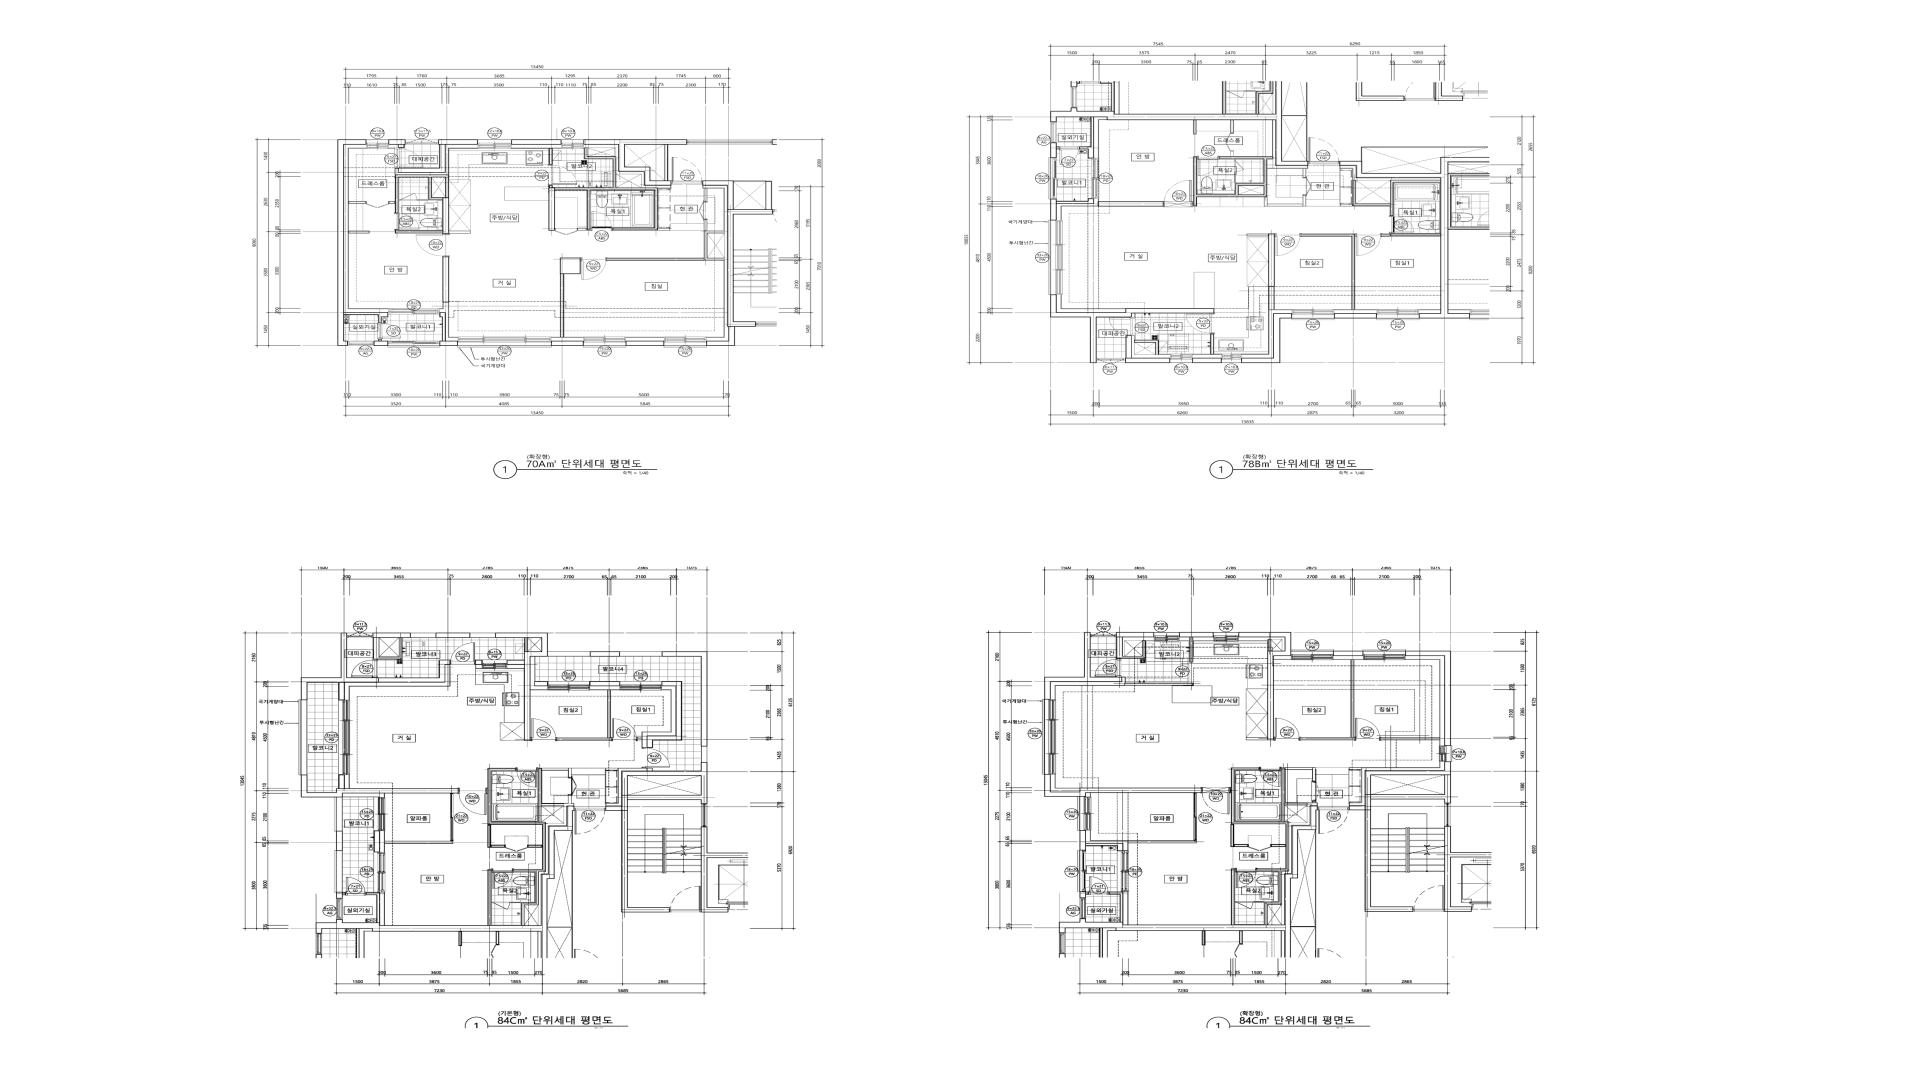door: (1317, 806, 1349, 834), (1308, 137, 1340, 164), (574, 807, 605, 834), (671, 157, 702, 183), (1413, 886, 1444, 912), (458, 788, 487, 815), (1164, 180, 1194, 206), (1201, 788, 1231, 814), (416, 234, 449, 257), (580, 258, 607, 280), (530, 719, 557, 741), (611, 719, 638, 741), (1186, 313, 1214, 334), (549, 165, 577, 186), (1275, 234, 1301, 256), (1355, 234, 1381, 256), (1274, 718, 1300, 740), (1355, 718, 1381, 740), (395, 148, 423, 168), (642, 748, 670, 768), (450, 643, 475, 664), (351, 659, 378, 678), (1109, 317, 1135, 336), (1095, 659, 1121, 677), (590, 211, 613, 231), (1390, 216, 1414, 234), (1197, 157, 1219, 176), (1260, 768, 1282, 787), (1235, 869, 1257, 888), (516, 768, 538, 787), (345, 877, 366, 896), (491, 870, 513, 888), (1088, 877, 1109, 895), (1059, 147, 1079, 165), (378, 323, 400, 339), (491, 902, 521, 910), (1193, 793, 1197, 841), (568, 776, 577, 796), (1312, 781, 1320, 803), (366, 201, 389, 208), (555, 228, 578, 235), (1248, 844, 1271, 851), (505, 845, 528, 852), (1090, 631, 1116, 637), (399, 193, 417, 201), (1303, 177, 1311, 195), (1226, 133, 1234, 151), (699, 202, 707, 220), (450, 793, 453, 841), (1235, 902, 1253, 909), (1235, 160, 1244, 172)
wall: (1059, 805, 1317, 958), (316, 806, 574, 958), (1050, 81, 1308, 166), (606, 186, 728, 341), (1340, 157, 1449, 318), (605, 762, 707, 913), (1349, 762, 1451, 912), (487, 768, 574, 926), (1231, 767, 1317, 925), (703, 181, 773, 346), (1050, 295, 1214, 363), (337, 140, 388, 346), (301, 633, 450, 700), (555, 145, 671, 231), (495, 633, 548, 741), (1239, 632, 1291, 740), (1044, 632, 1125, 699), (584, 140, 687, 186), (1300, 660, 1355, 740), (662, 651, 707, 747), (1406, 651, 1451, 746), (1444, 826, 1492, 912), (1301, 234, 1355, 310), (701, 827, 748, 913), (1194, 157, 1273, 206), (301, 775, 458, 797), (1044, 775, 1201, 797), (395, 139, 478, 175), (557, 690, 611, 741), (642, 681, 682, 748), (1241, 313, 1292, 363), (547, 831, 573, 928), (1241, 310, 1292, 358), (1291, 830, 1316, 927), (1267, 120, 1308, 177), (389, 175, 449, 213), (551, 274, 583, 341), (606, 768, 647, 806), (1371, 775, 1444, 795), (1340, 166, 1441, 180), (627, 776, 701, 795), (1125, 336, 1170, 363), (1057, 295, 1126, 312), (1282, 115, 1307, 161), (1116, 632, 1154, 659), (511, 145, 561, 165), (1080, 831, 1128, 851), (1050, 199, 1094, 220), (1057, 199, 1099, 220), (1132, 336, 1170, 358), (439, 303, 457, 341), (439, 312, 457, 346), (373, 638, 402, 659), (1123, 637, 1154, 656), (1094, 117, 1107, 158), (1268, 234, 1275, 310), (707, 233, 726, 258), (1264, 195, 1306, 206), (1109, 892, 1123, 922), (541, 806, 564, 824), (1231, 824, 1248, 847), (1134, 340, 1159, 355), (1098, 201, 1164, 206), (442, 257, 449, 303), (560, 258, 580, 274), (548, 186, 555, 231), (1179, 632, 1214, 641), (590, 681, 620, 690), (1334, 651, 1363, 660), (442, 197, 449, 234), (373, 831, 385, 852), (511, 140, 561, 145), (1268, 637, 1285, 651), (587, 148, 616, 156), (1231, 869, 1235, 925), (1334, 313, 1377, 318), (1128, 840, 1197, 843), (385, 841, 453, 844), (626, 341, 664, 346), (372, 633, 410, 638), (590, 651, 620, 657), (1381, 737, 1440, 740), (436, 633, 470, 638), (488, 870, 491, 926), (551, 341, 583, 346), (626, 337, 664, 341), (1192, 358, 1222, 363), (1050, 143, 1060, 158), (395, 230, 443, 233), (388, 140, 405, 148), (1125, 683, 1193, 685), (1334, 310, 1377, 313), (336, 831, 342, 851), (1192, 354, 1222, 358), (665, 145, 668, 181), (374, 339, 388, 346), (1190, 637, 1193, 662), (1419, 310, 1441, 313), (475, 660, 482, 669), (449, 231, 470, 234), (1246, 737, 1267, 740), (1211, 334, 1214, 354), (348, 201, 366, 204), (524, 638, 528, 651), (1230, 120, 1234, 133), (336, 892, 342, 899), (1193, 120, 1196, 134), (1247, 234, 1268, 236), (349, 231, 369, 233), (1349, 767, 1361, 770), (1080, 892, 1086, 898), (388, 145, 398, 148), (1340, 204, 1353, 206), (1231, 151, 1234, 157), (1132, 313, 1135, 317), (1253, 902, 1265, 903), (1235, 172, 1236, 183), (417, 200, 428, 201), (637, 738, 642, 740), (342, 892, 345, 895), (1086, 892, 1088, 894), (734, 181, 766, 181)
window: (1048, 220, 1063, 295), (1042, 699, 1056, 775), (457, 337, 551, 348), (338, 700, 350, 775), (299, 700, 307, 775), (373, 852, 385, 892), (1077, 797, 1091, 831), (583, 337, 626, 348), (664, 337, 707, 348), (1291, 649, 1334, 660), (1363, 649, 1406, 660), (1377, 310, 1419, 320), (1292, 310, 1334, 320), (373, 797, 385, 831), (548, 681, 590, 690), (620, 681, 662, 690), (1077, 850, 1086, 892), (334, 851, 343, 892), (1048, 158, 1057, 199), (388, 341, 440, 348), (1121, 851, 1129, 892), (388, 308, 439, 314), (478, 140, 511, 149), (1092, 158, 1099, 199), (334, 797, 342, 831), (620, 651, 662, 657), (405, 138, 438, 145), (482, 660, 507, 669), (1214, 632, 1239, 641), (1154, 632, 1179, 641), (1439, 746, 1452, 762), (561, 140, 584, 149), (1170, 354, 1192, 363), (366, 140, 388, 149), (1222, 354, 1241, 363), (548, 652, 590, 656), (1097, 358, 1125, 364), (347, 632, 373, 638), (1050, 122, 1057, 143), (701, 804, 707, 827), (1445, 803, 1451, 826), (410, 633, 436, 638), (348, 341, 374, 346), (336, 899, 342, 920), (1080, 898, 1086, 919), (470, 633, 495, 638), (701, 747, 707, 762)
